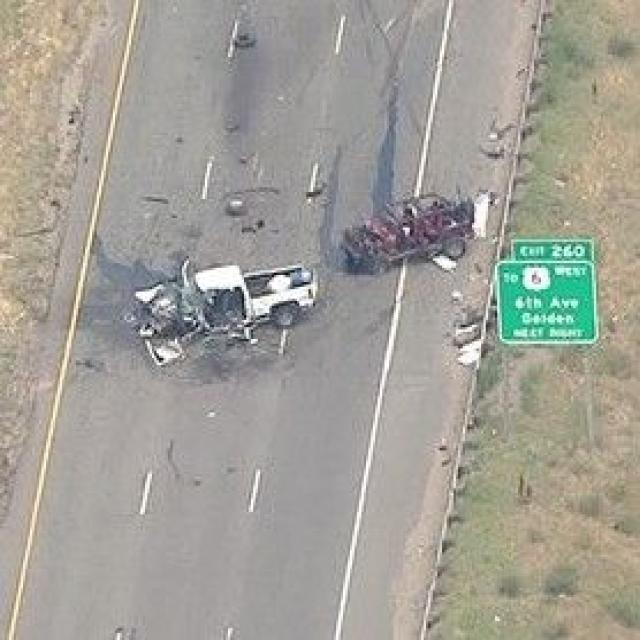traffic_incident: (129, 244, 315, 360), (341, 175, 474, 280)
